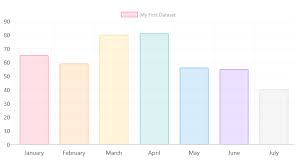Xaxis: (4, 142, 298, 161)
Yaxis: (1, 7, 17, 164)
bar: (98, 33, 131, 145), (139, 33, 169, 145), (19, 54, 50, 145), (58, 62, 91, 146), (178, 65, 211, 145), (218, 67, 250, 146), (257, 88, 290, 145)
